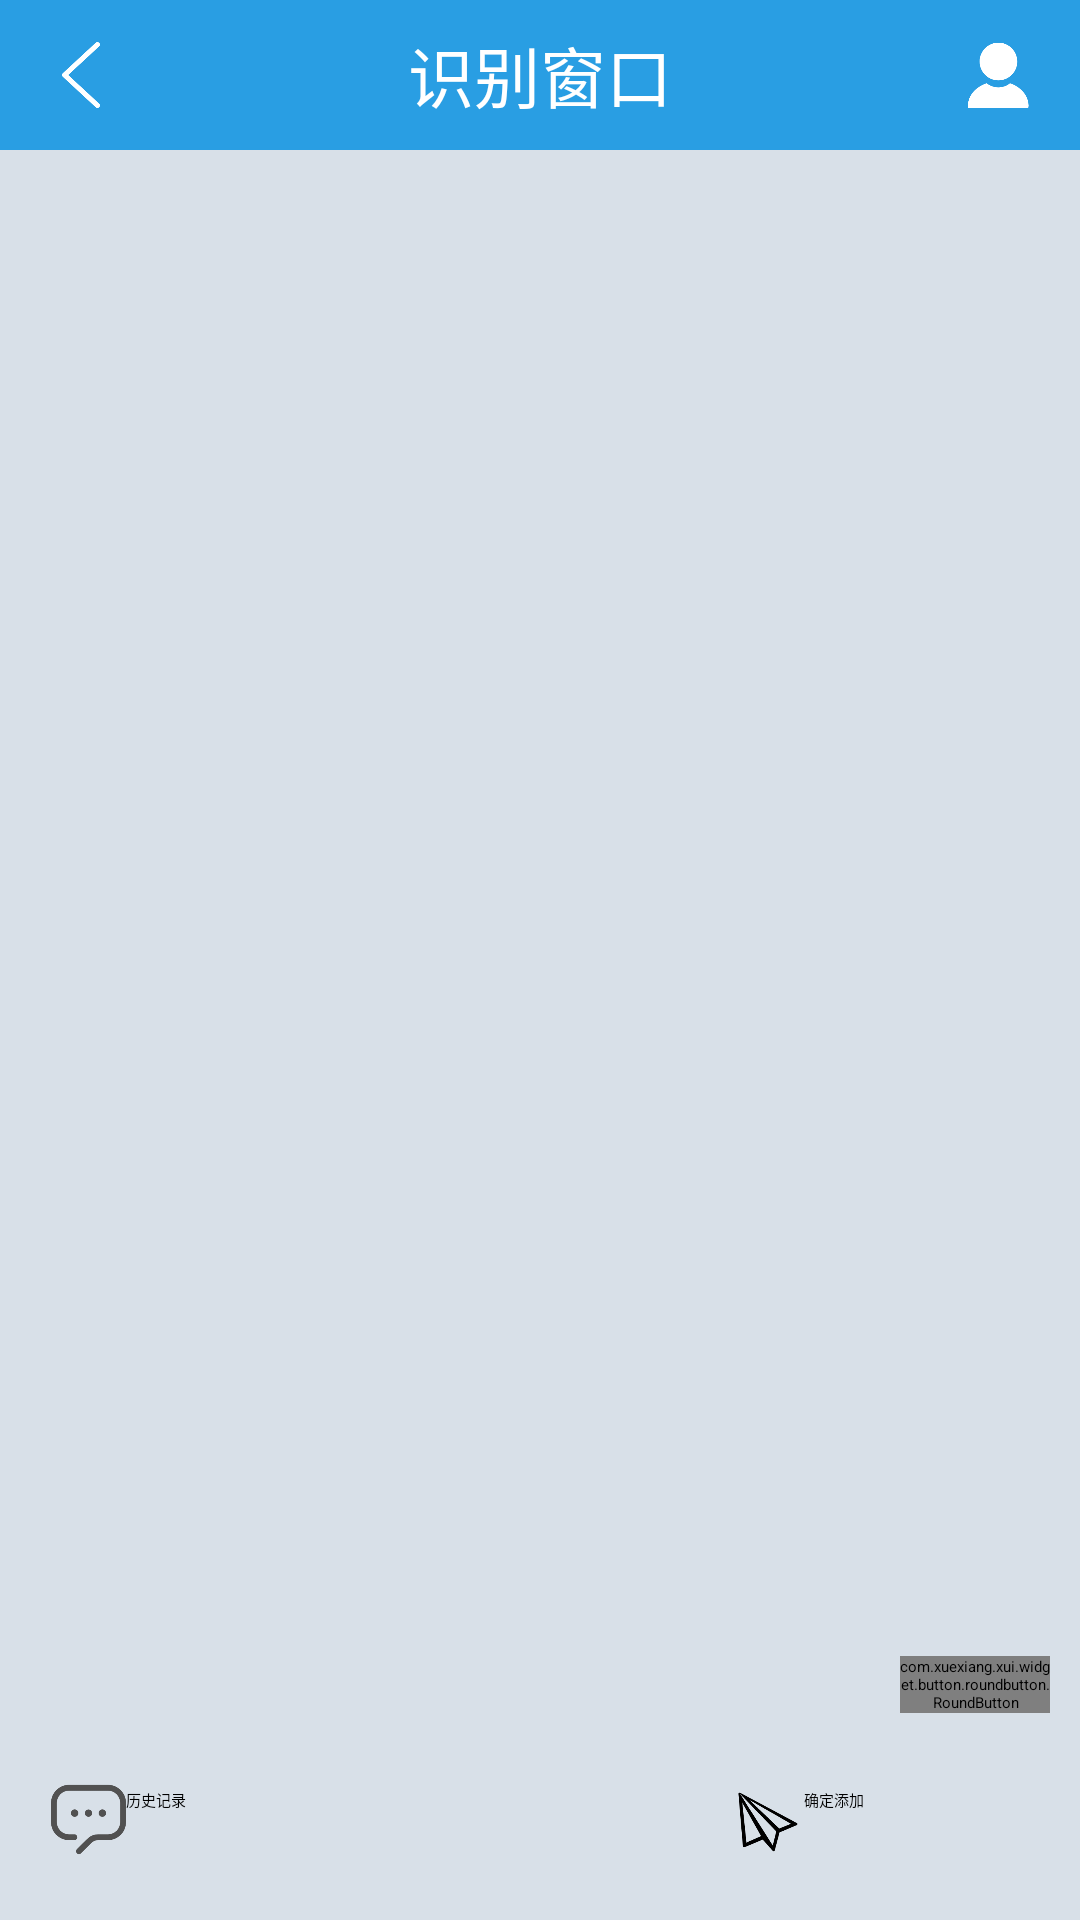

Where icons sit on this 1080 x 1920 app screen, as (x1, y1, x2, y2):
back: (62, 42, 100, 108)
login: (968, 43, 1029, 108)
send: (738, 1792, 798, 1852)
